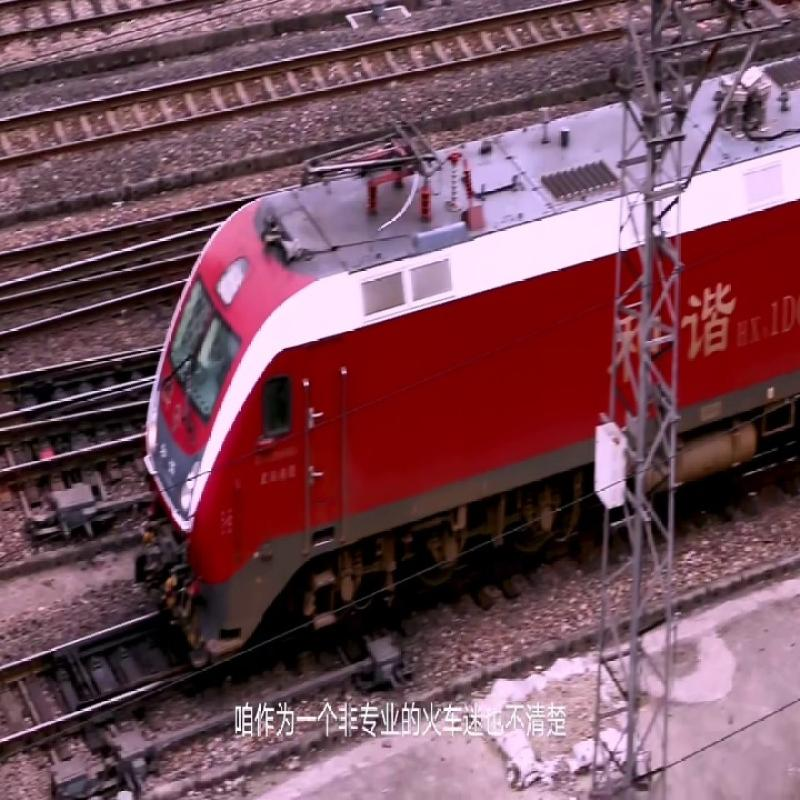train: (151, 170, 800, 580)
